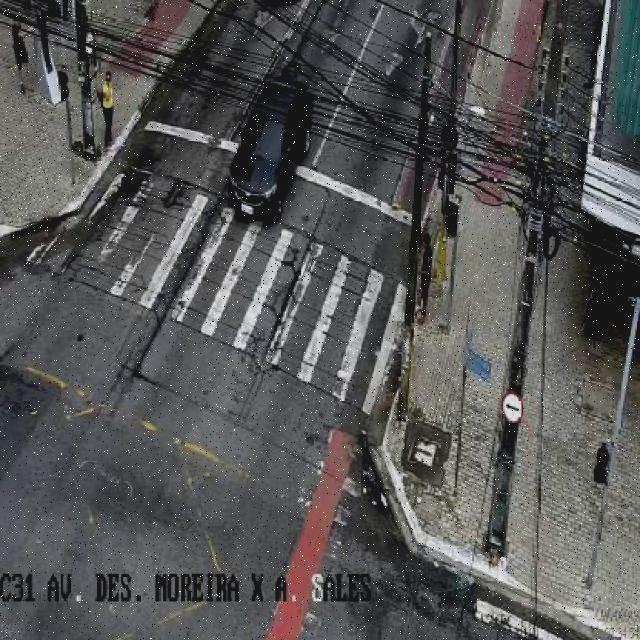Car: (224, 79, 316, 223)
